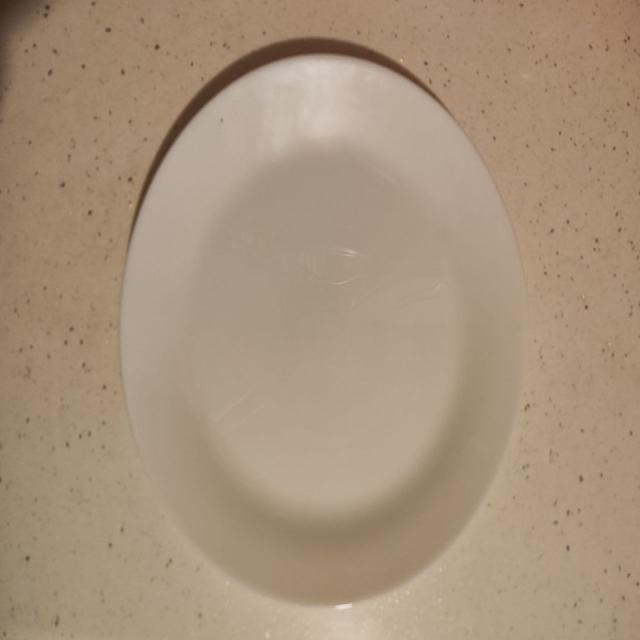Circle: (120, 52, 528, 612)
